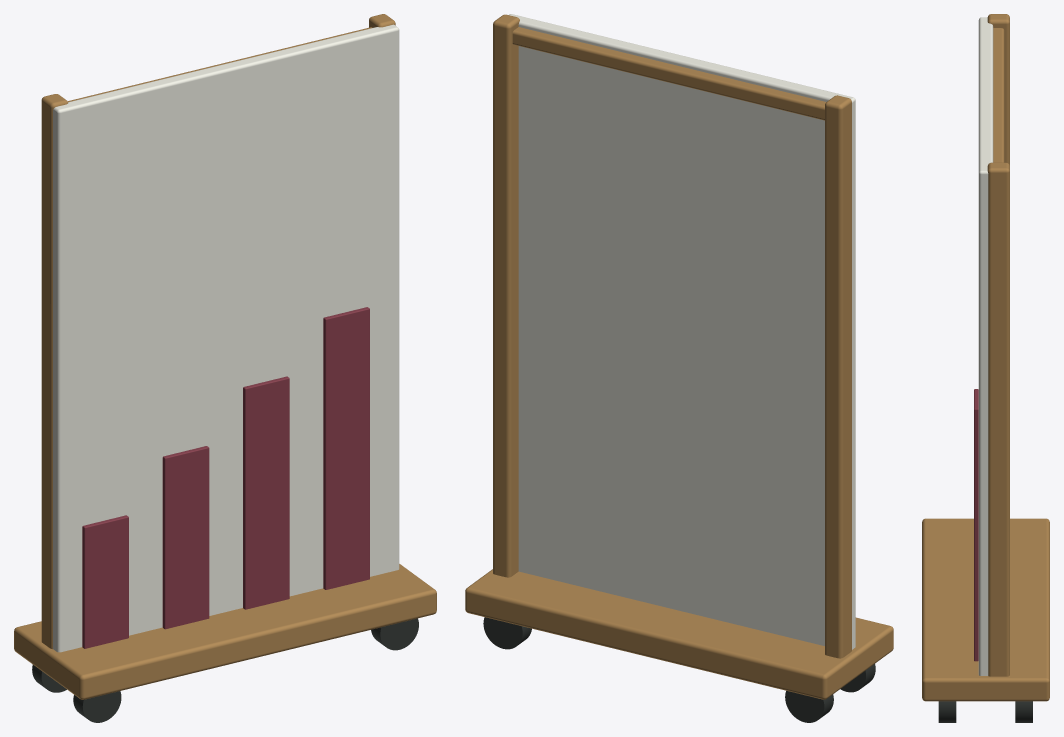
File: abandoned-puppet-theatre-and-prop-vault-rolling-scener-0946dd4f__31060.glb
3 renders of one model, left to right at view 1: azimuth 30°, elevation 25°; view 2: azimuth 150°, elevation 25°; view 3: azimuth 270°, elevation 25°, orthographic. The views are drawn at different scales.
Visible parts, largest first — view 1: rolling-scenery-flat_3, rolling-scenery-flat_4, rolling-scenery-flat_1, rolling-scenery-flat_2; view 2: rolling-scenery-flat_3, rolling-scenery-flat_1, rolling-scenery-flat_2; view 3: rolling-scenery-flat_1, rolling-scenery-flat_3, rolling-scenery-flat_4, rolling-scenery-flat_2.
Boxes of the visible parts, bbox=[...] form: rolling-scenery-flat_3: bbox=[53, 24, 399, 652]; rolling-scenery-flat_4: bbox=[82, 307, 369, 648]; rolling-scenery-flat_1: bbox=[14, 14, 436, 699]; rolling-scenery-flat_2: bbox=[32, 618, 418, 722]; rolling-scenery-flat_3: bbox=[509, 14, 855, 649]; rolling-scenery-flat_1: bbox=[465, 14, 893, 699]; rolling-scenery-flat_2: bbox=[483, 617, 875, 722]; rolling-scenery-flat_1: bbox=[922, 14, 1049, 701]; rolling-scenery-flat_3: bbox=[978, 17, 993, 675]; rolling-scenery-flat_4: bbox=[974, 389, 978, 661]; rolling-scenery-flat_2: bbox=[938, 701, 1032, 722].
Bounding box in the file's own units: 1.2 × 1.94 × 0.3999.
